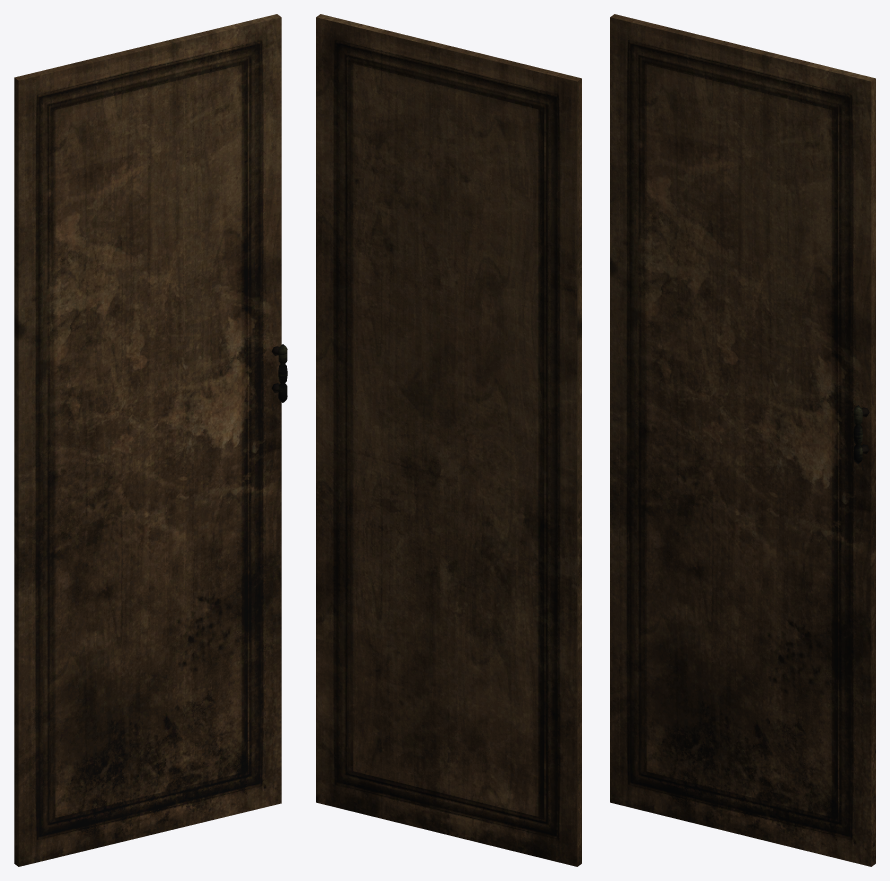
The model's file is closetLeftDoor01_b.FBX.
The picture shows the model from 3 angles, left to right: view 1: azimuth 30°, elevation 25°; view 2: azimuth 150°, elevation 25°; view 3: azimuth 330°, elevation 25°; orthographic projection.
Parts seen in each view (by area): view 1: SM_ClosetLeftDoor01; view 2: SM_ClosetLeftDoor01; view 3: SM_ClosetLeftDoor01.
Boxes of the visible parts, bbox=[...] form: SM_ClosetLeftDoor01: bbox=[14, 14, 287, 866]; SM_ClosetLeftDoor01: bbox=[316, 14, 581, 866]; SM_ClosetLeftDoor01: bbox=[610, 14, 875, 866].
Size of the model in its own units: 61.48 by 176 by 5.99.
Materials: 1 (1 with a texture image).
